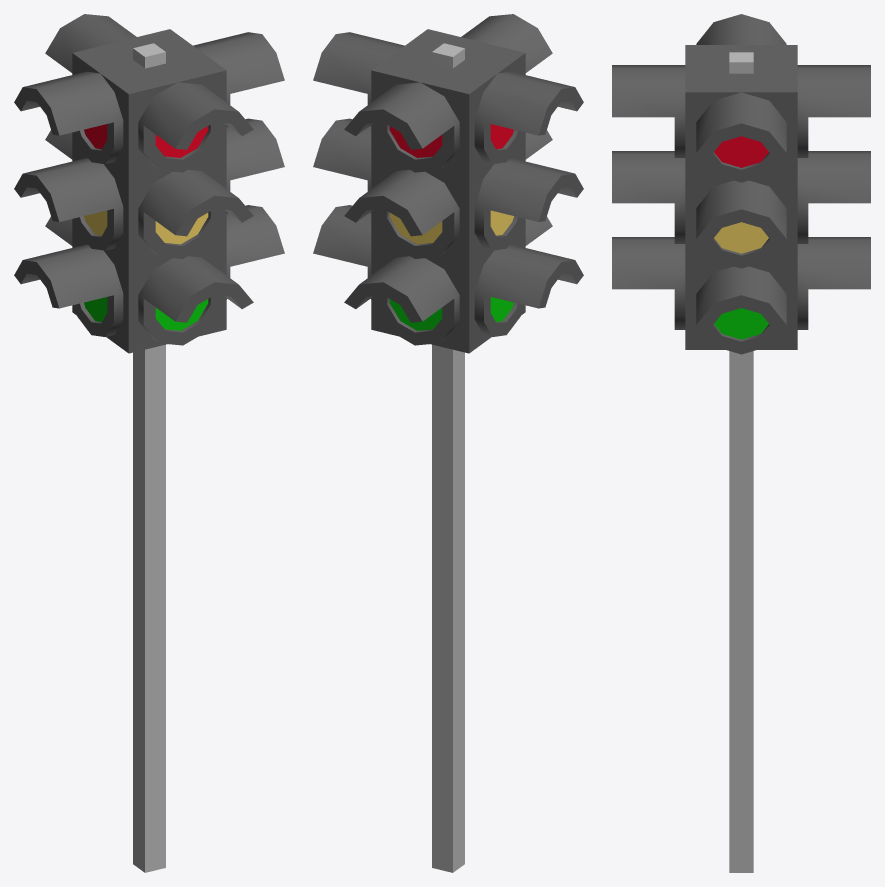
The model's file is traffic_lights_2.fbx.
3 views of the same model, side by side, from view 1: azimuth 30°, elevation 25°; view 2: azimuth 150°, elevation 25°; view 3: azimuth 270°, elevation 25° (orthographic).
Parts seen in each view (by area): view 1: traffic_lights_2; view 2: traffic_lights_2; view 3: traffic_lights_2.
Part boxes in pixels (box(x1,y1,x2,y2)): traffic_lights_2: box(14, 14, 284, 872); traffic_lights_2: box(313, 14, 583, 872); traffic_lights_2: box(612, 14, 870, 872).
Size of the model in its own units: 0.983 by 3.4 by 0.983.
